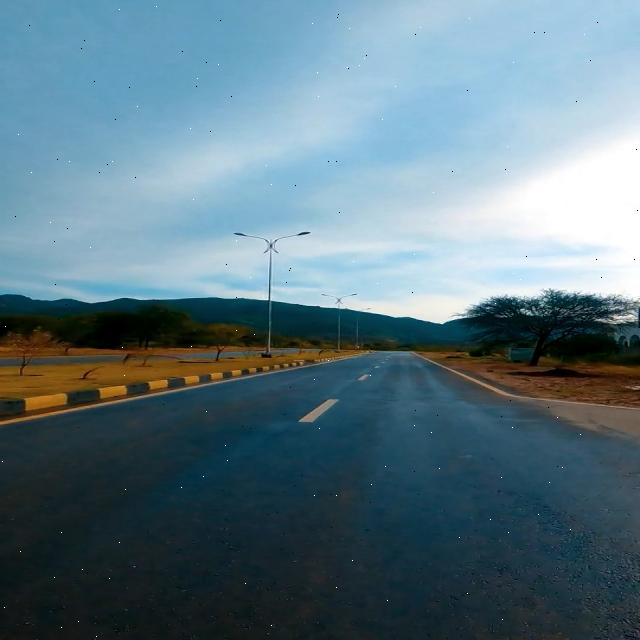lane: (1, 357, 344, 418), (1, 359, 325, 418), (300, 399, 339, 422), (26, 393, 68, 410)
road: (2, 352, 638, 639)
